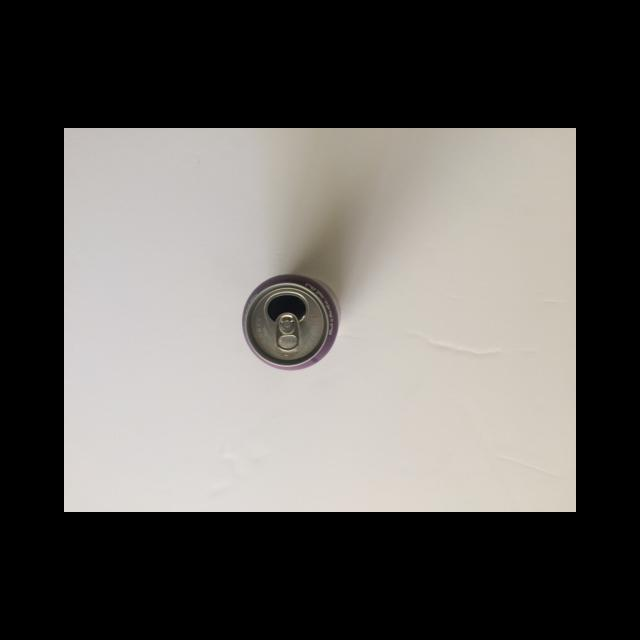metal: (241, 272, 340, 369)
